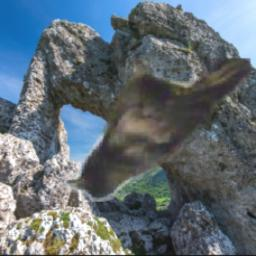Crow: (64, 58, 250, 202)
